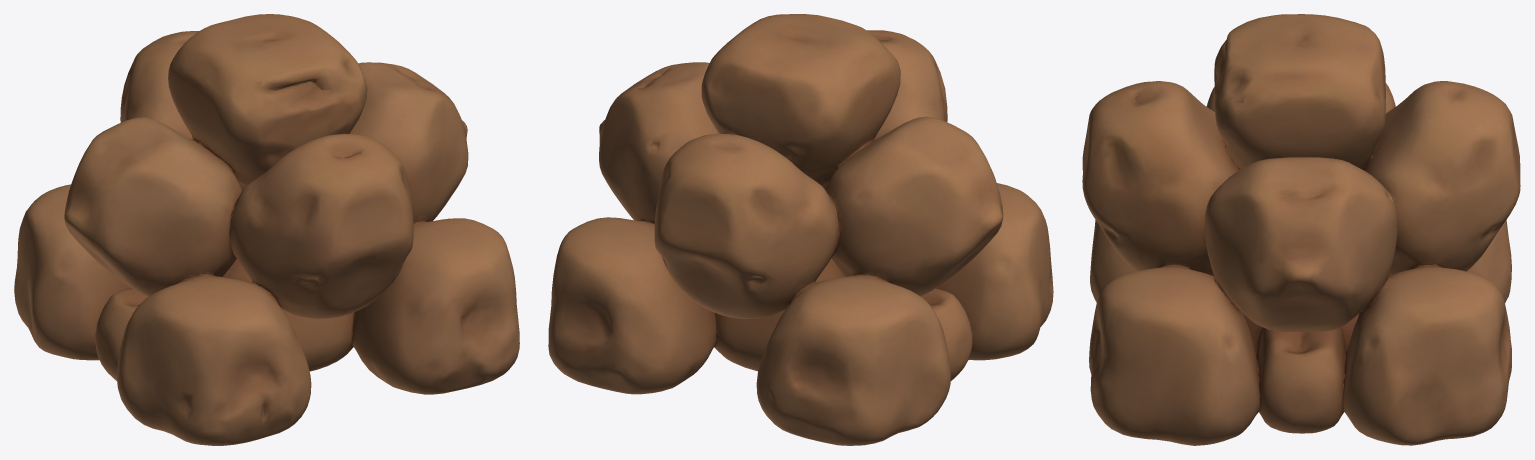
Rendered from rocks.glb.
The picture shows the model from 3 angles, left to right: view 1: azimuth 30°, elevation 25°; view 2: azimuth 150°, elevation 25°; view 3: azimuth 270°, elevation 25°; orthographic projection. The views are drawn at different scales.
Parts seen in each view (by area): view 1: Mesh; view 2: Mesh; view 3: Mesh.
Part boxes in pixels (<box>): Mesh: <box>14,14,519,445</box>; Mesh: <box>548,14,1053,445</box>; Mesh: <box>1082,14,1520,445</box>.
Bounding box in the file's own units: 1.88 × 1.42 × 1.73.
1 material, 1 textured.
